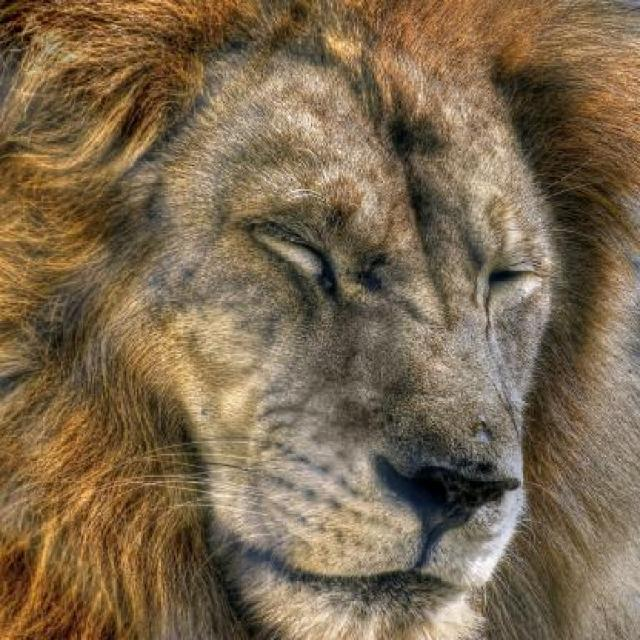Lion: (27, 16, 596, 638)
